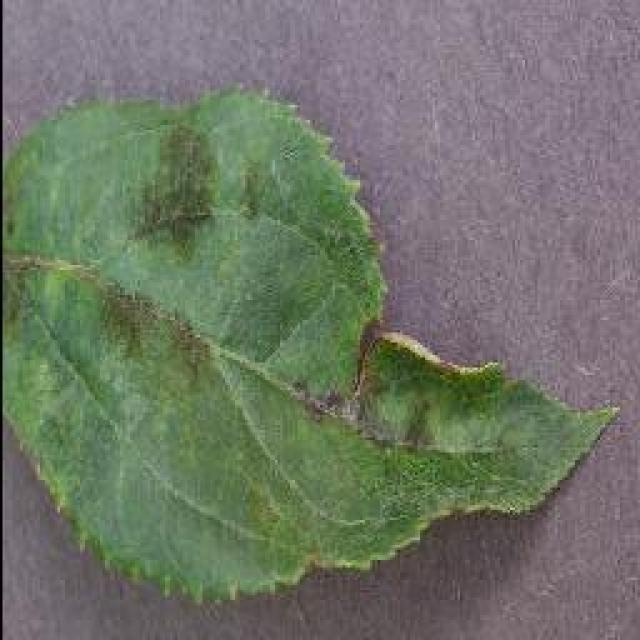apple scab disease: (0, 80, 620, 602)
